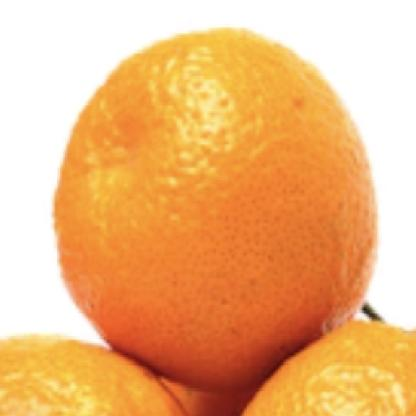fresh: (56, 30, 378, 364)
